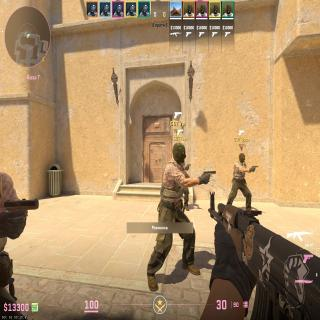T-Body: (158, 142, 188, 265), (232, 153, 248, 208)
T-Head: (172, 142, 186, 163), (239, 153, 245, 162)
